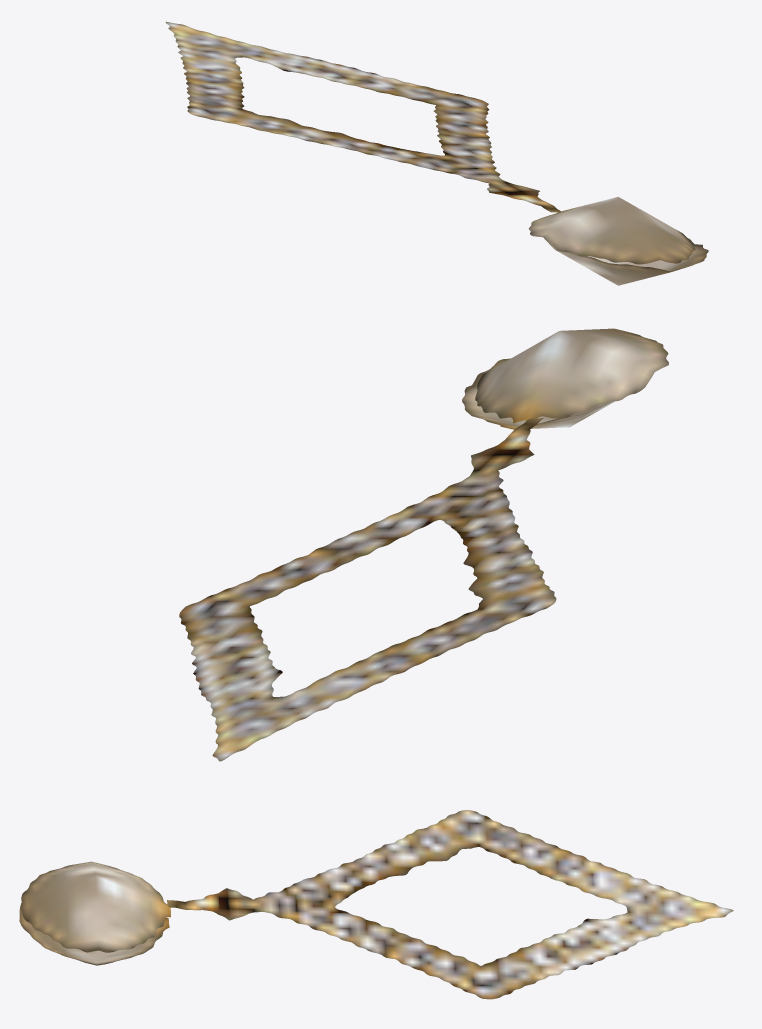
Rendered from ear.FBX.
The picture shows the model from 3 angles, top to bottom: view 1: azimuth 30°, elevation 25°; view 2: azimuth 150°, elevation 25°; view 3: azimuth 270°, elevation 25°; orthographic projection. The views are drawn at different scales.
Visible parts, largest first — view 1: Object003; view 2: Object003; view 3: Object003.
Part boxes in pixels (box(x1,y1,x2,y2)): Object003: box(165, 21, 708, 285); Object003: box(179, 328, 668, 761); Object003: box(19, 810, 733, 999).
Bounding box in the file's own units: 2.08 × 0.6429 × 4.25.
